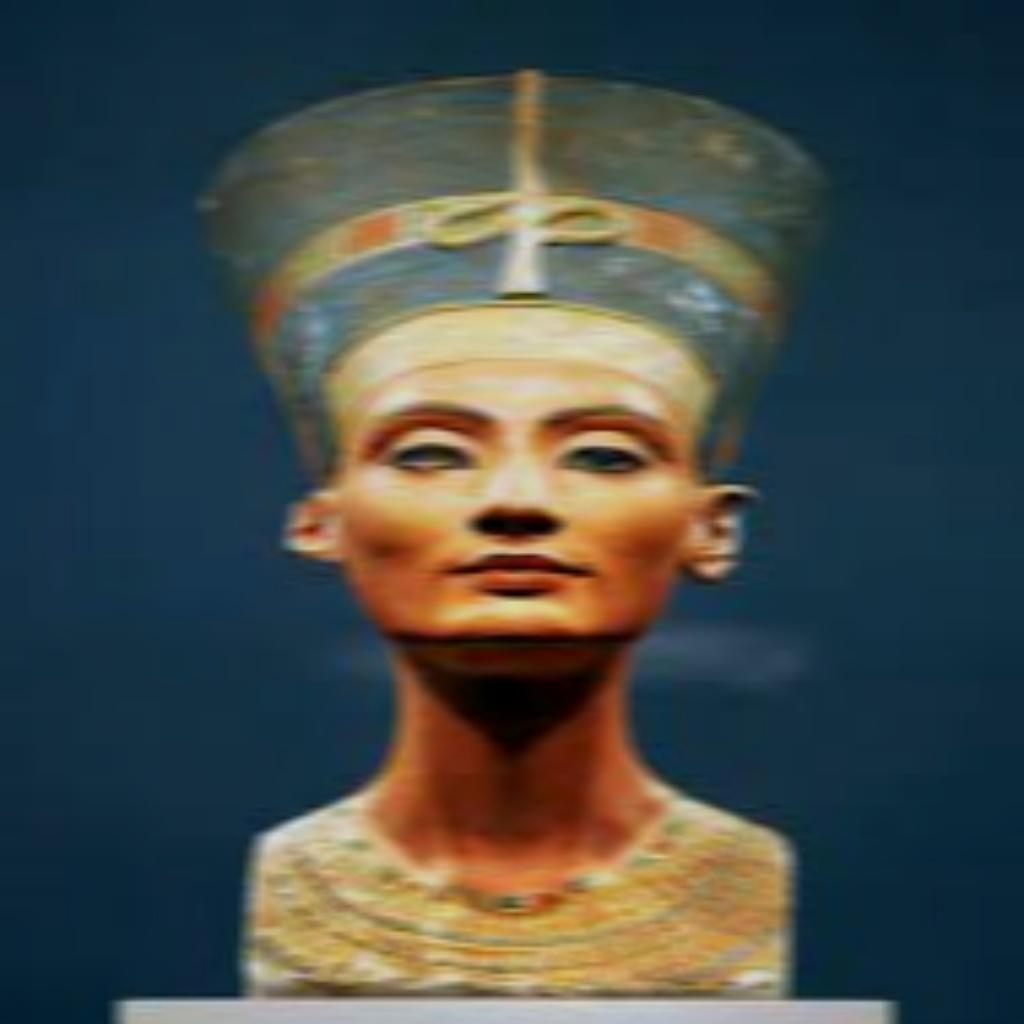Nefertiti: (195, 62, 834, 997)
